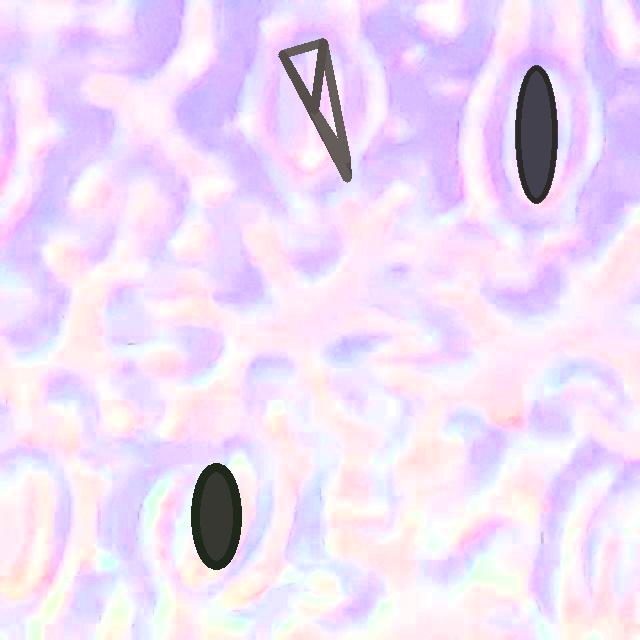close: (279, 39, 350, 181), (515, 65, 557, 203), (191, 462, 241, 569)
